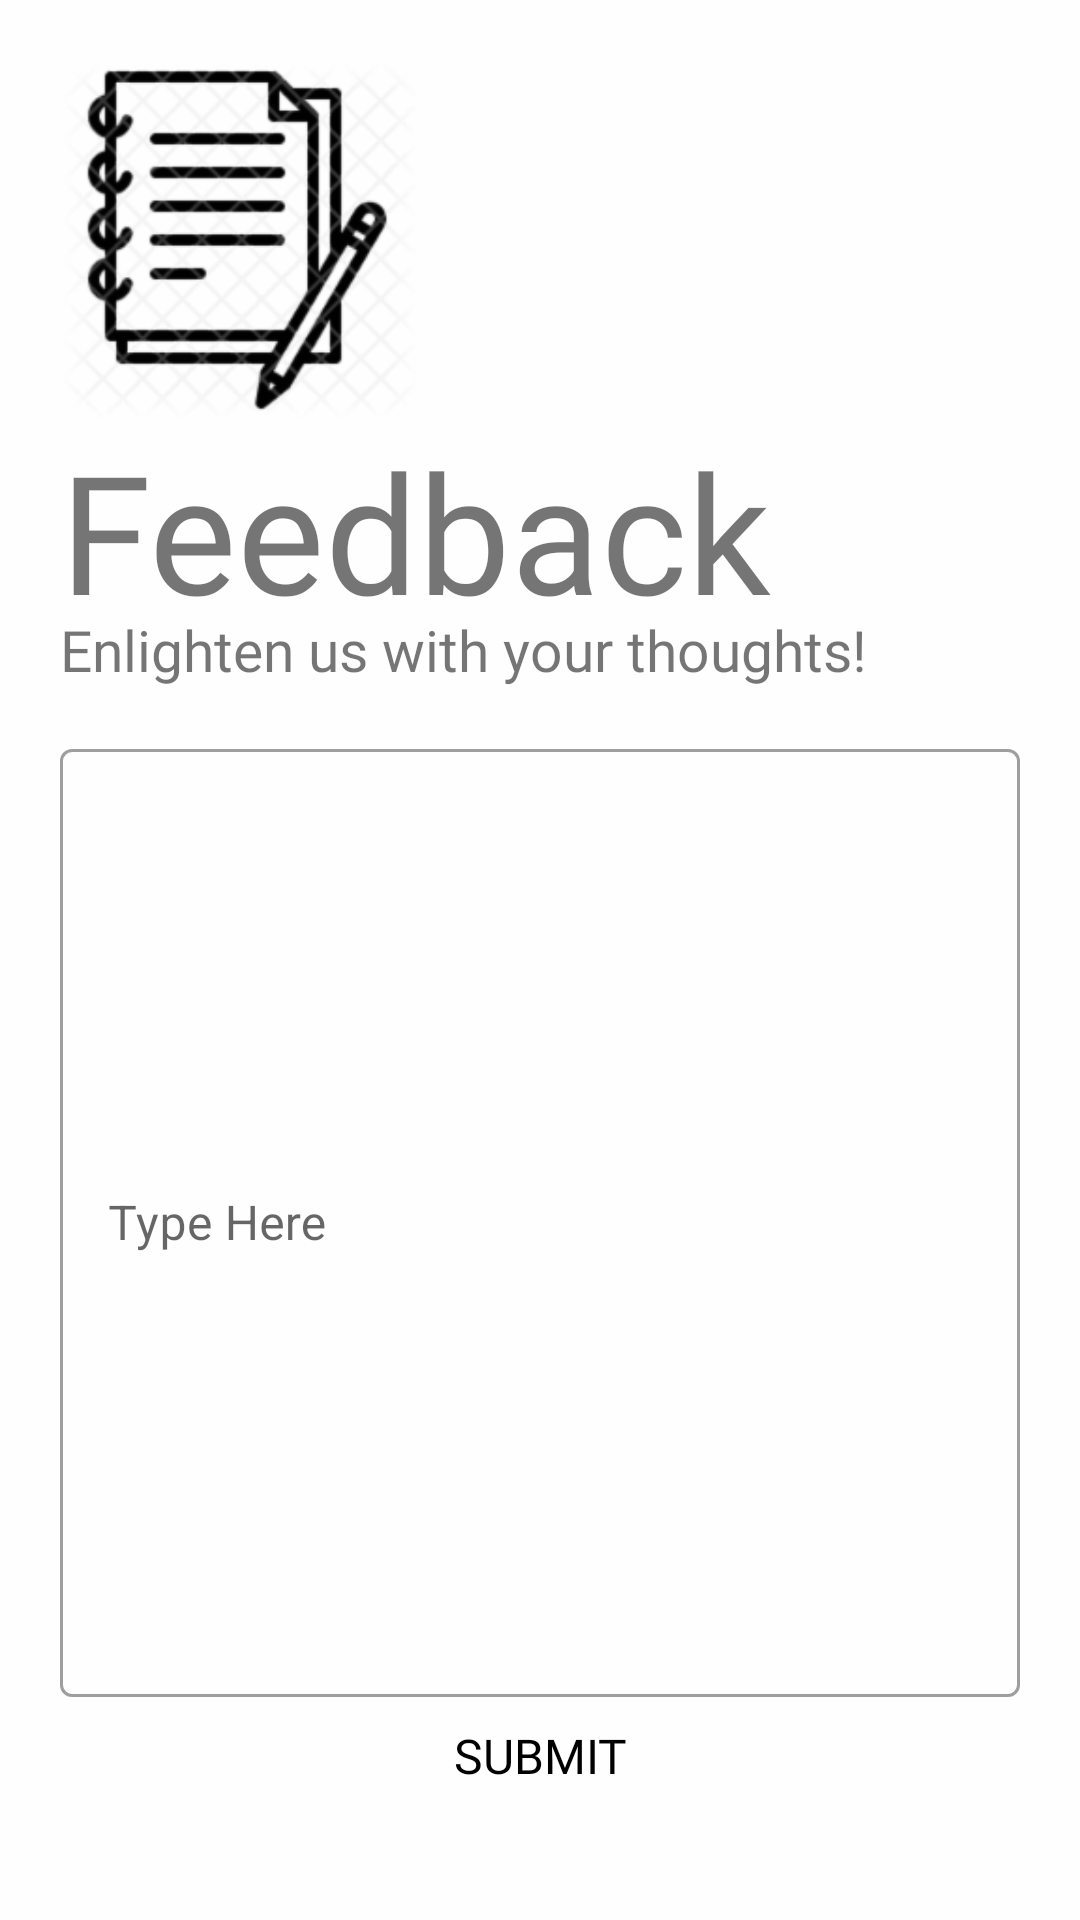

Where to tap for icons on this 1080px x 1920px app screen, as (x=x, y=y):
notebook: (x=237, y=240)
